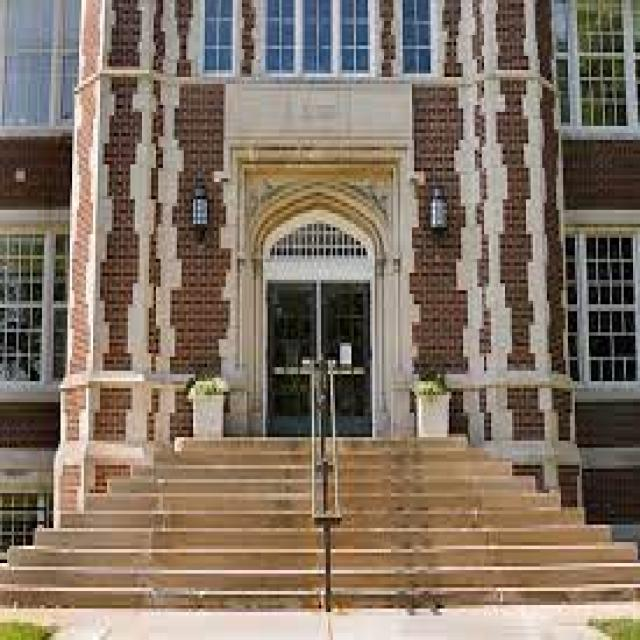upstair: (1, 434, 636, 592)
